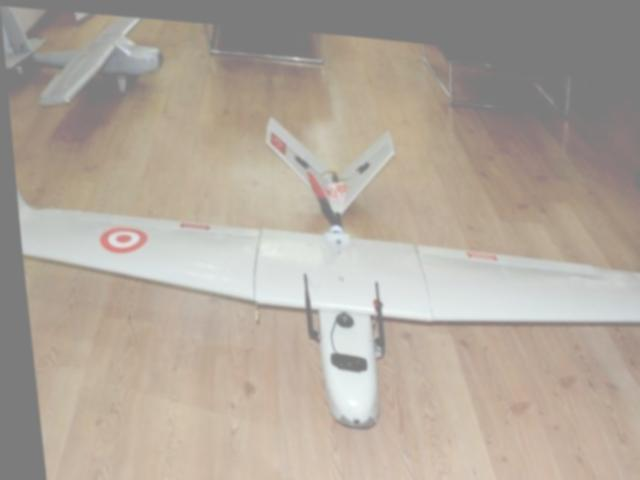iha: (5, 74, 640, 452)
